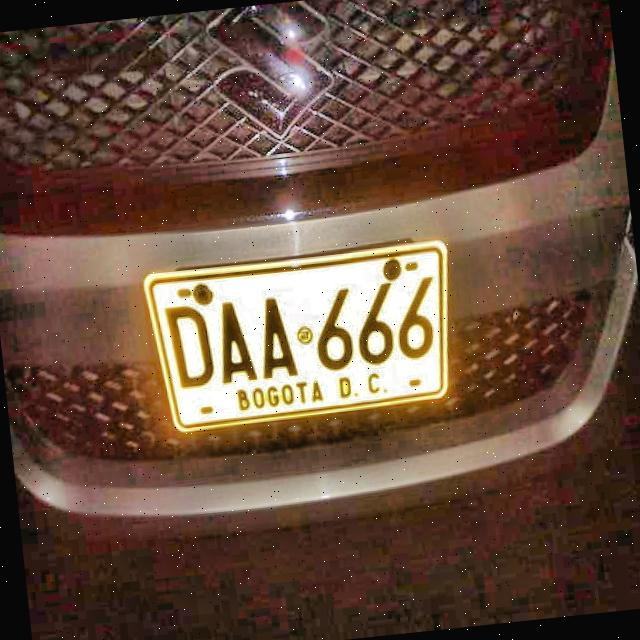6: (308, 283, 359, 376), (351, 280, 399, 369), (396, 273, 437, 363)
A: (252, 292, 304, 383), (212, 296, 261, 388)
D: (161, 303, 219, 390)
